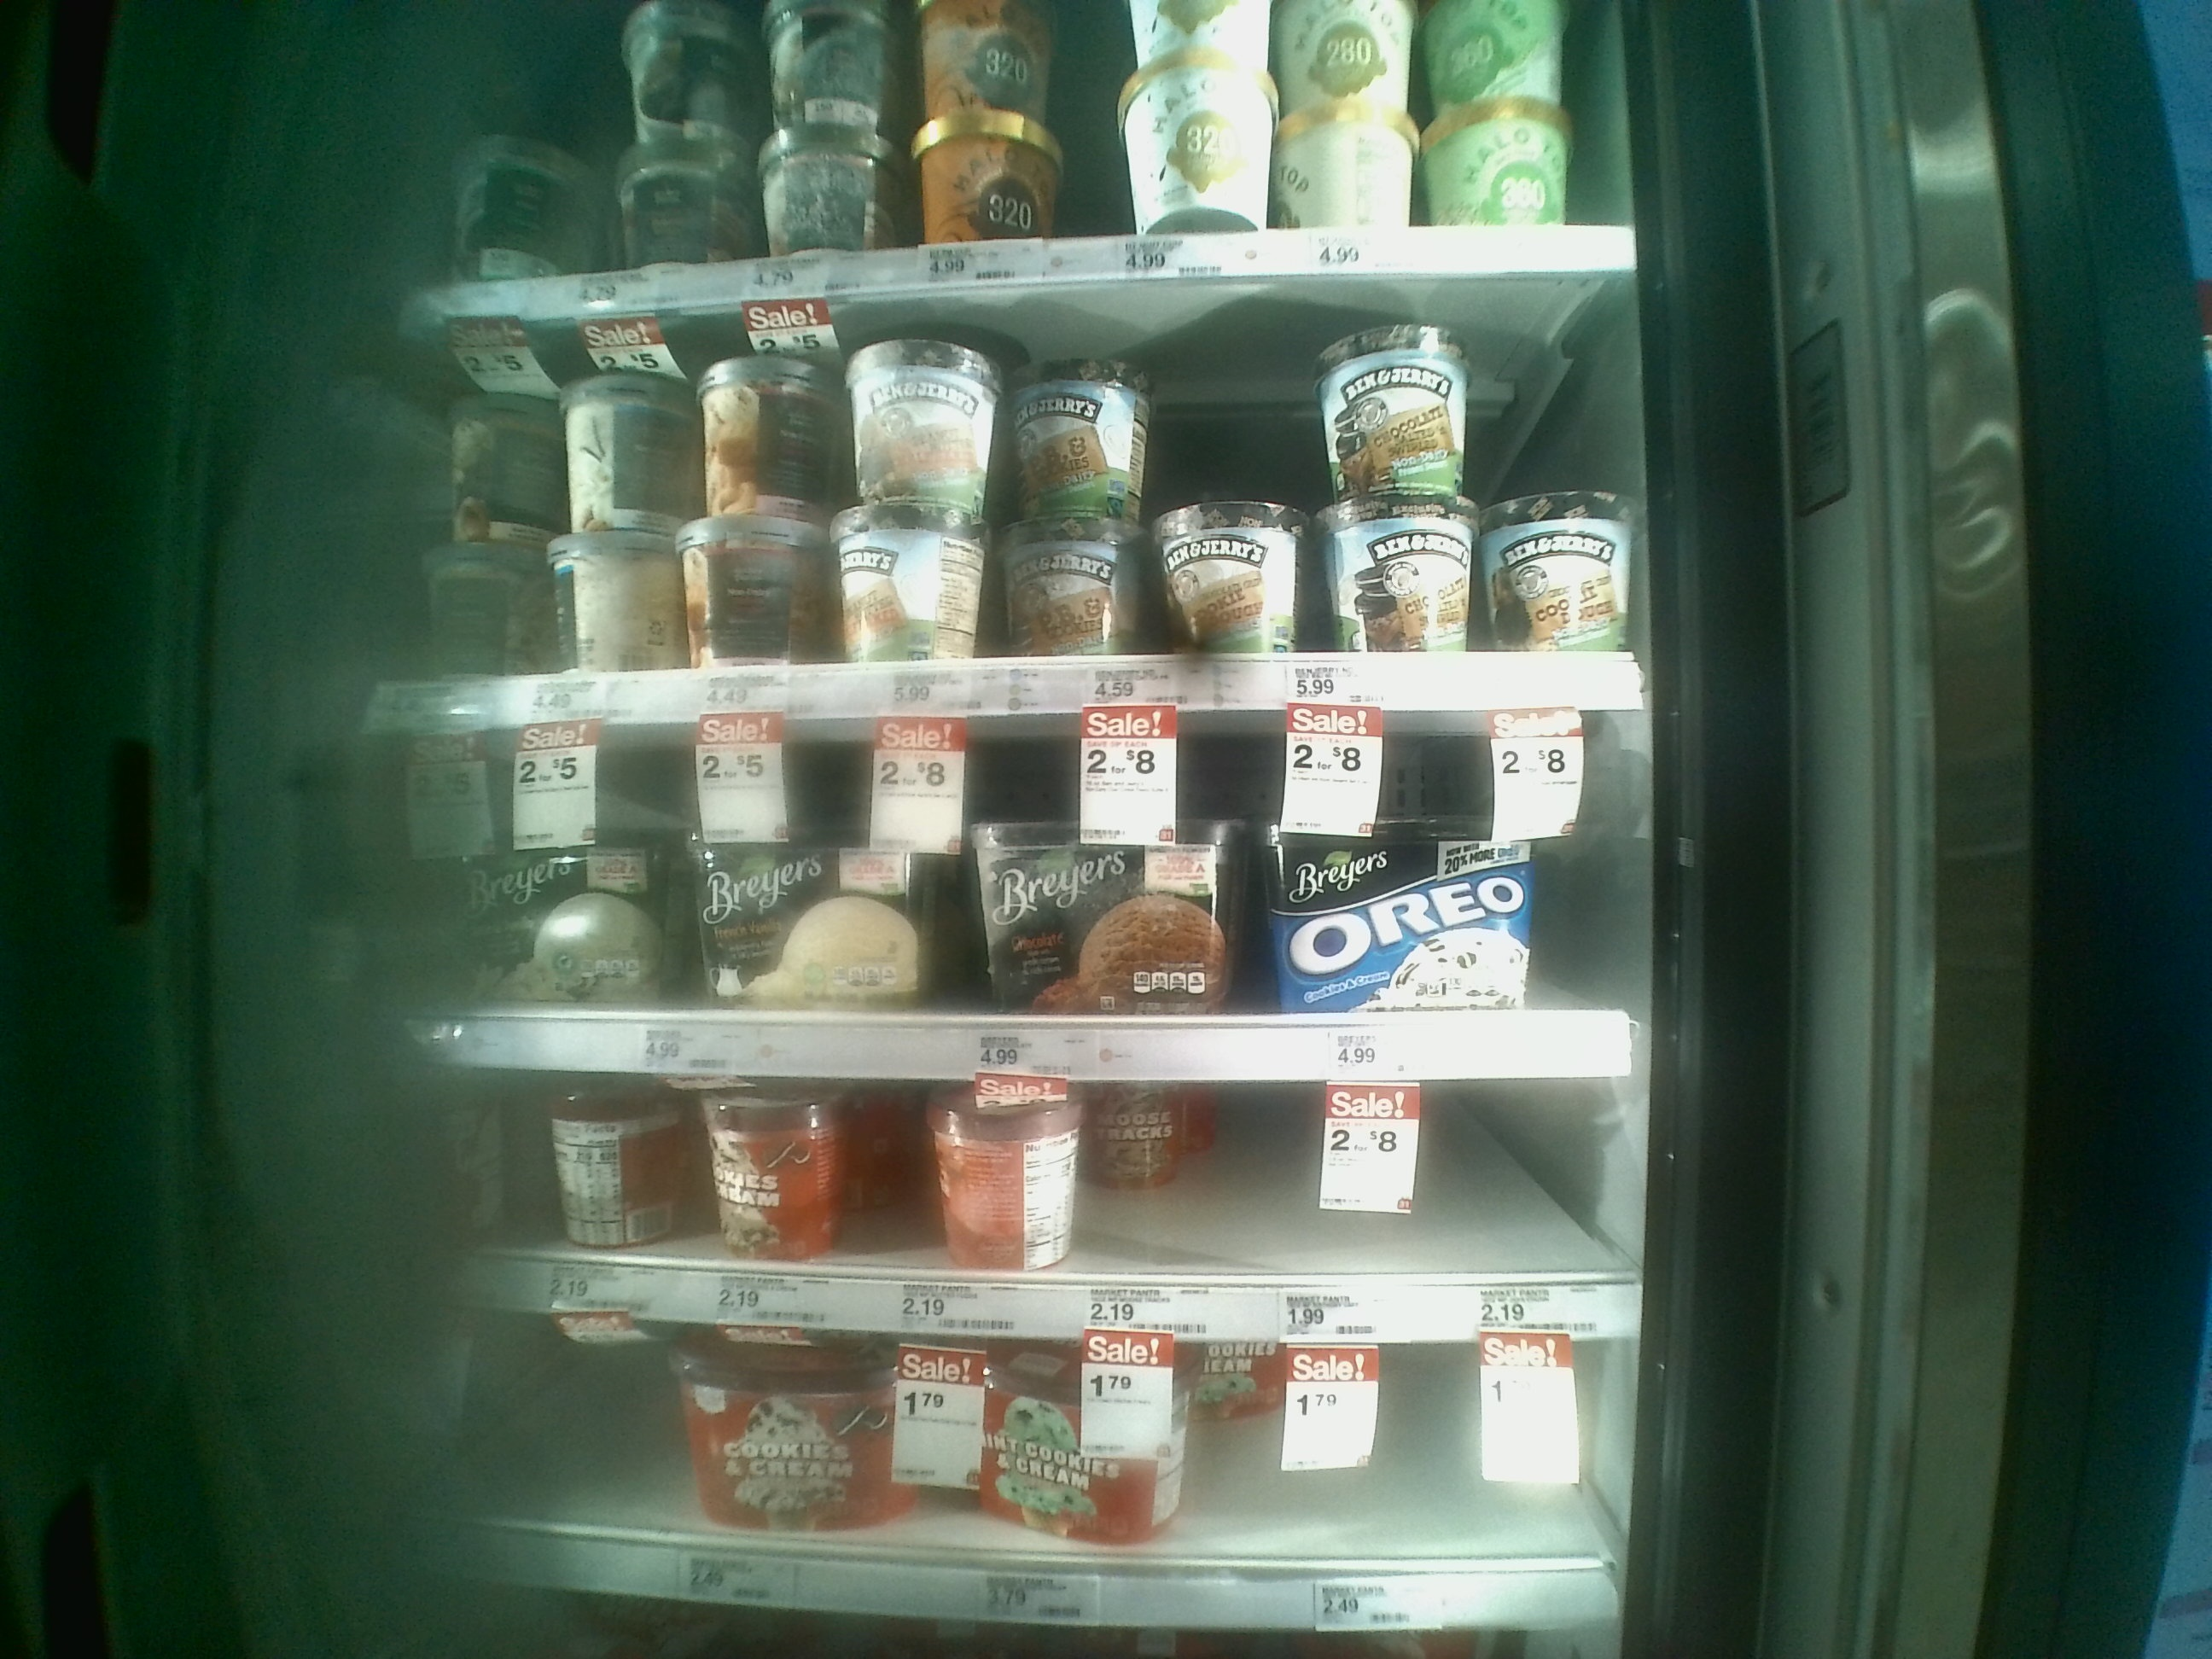ice-cream-shelf: (390, 296, 1639, 709), (380, 708, 1651, 1070), (394, 1070, 1644, 1328)
